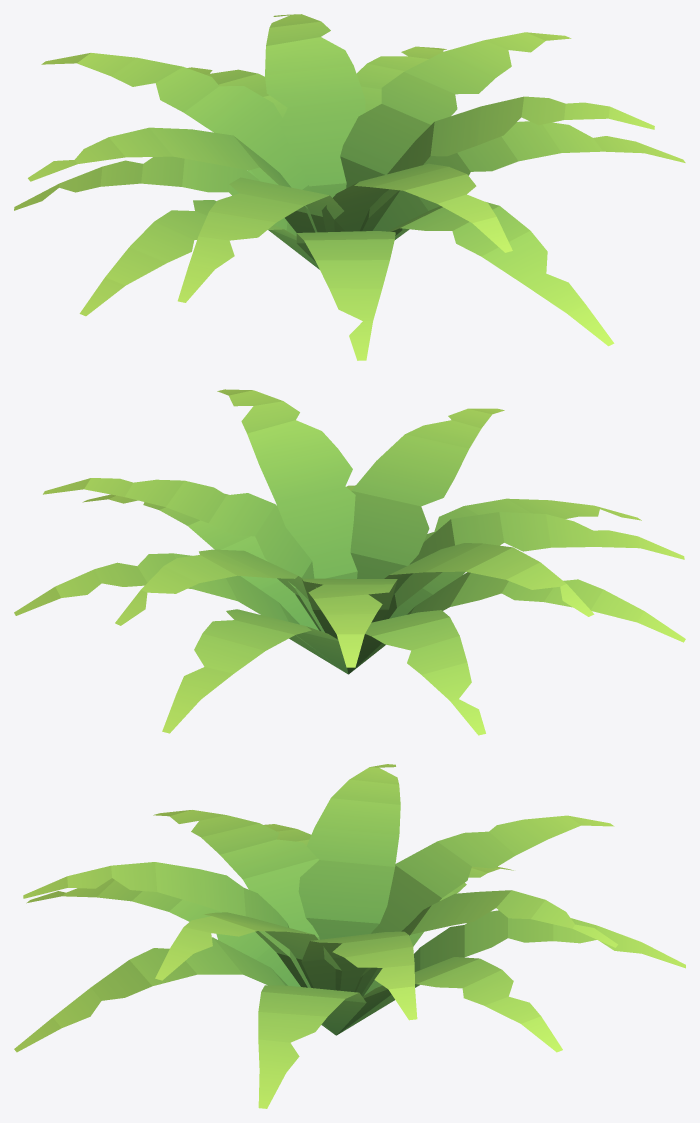
Rendered from GreenDoubleFern.fbx.
3 renders of one model, top to bottom at view 1: azimuth 30°, elevation 25°; view 2: azimuth 150°, elevation 25°; view 3: azimuth 270°, elevation 25°, orthographic. The views are drawn at different scales.
Parts seen in each view (by area): view 1: GreenDoubleFern; view 2: GreenDoubleFern; view 3: GreenDoubleFern.
Part boxes in pixels (x1,y1,x2,y2): GreenDoubleFern: (14, 14, 685, 360); GreenDoubleFern: (14, 389, 685, 735); GreenDoubleFern: (14, 764, 685, 1108).
Size of the model in its own units: 433 by 127 by 434.
